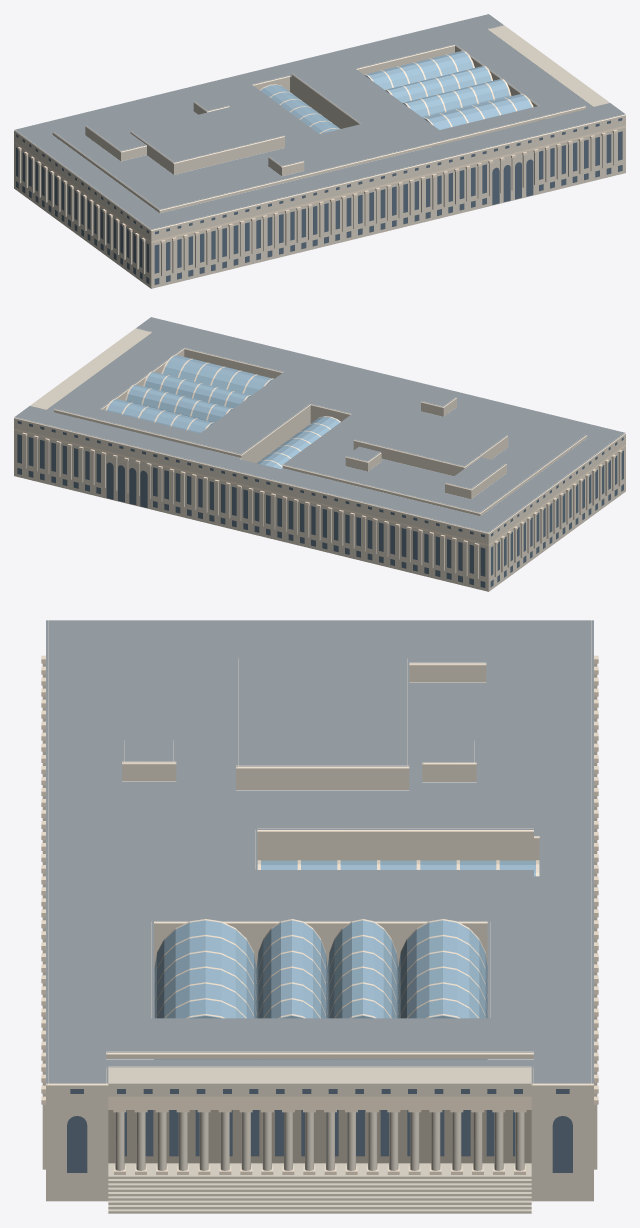
File: nyc-moynihan-train-hall.glb
3 renders of one model, top to bottom at view 1: azimuth 30°, elevation 25°; view 2: azimuth 150°, elevation 25°; view 3: azimuth 270°, elevation 25°, orthographic. The views are drawn at different scales.
Visible parts, largest first — view 1: Moynihan Train Hall; view 2: Moynihan Train Hall; view 3: Moynihan Train Hall.
Part boxes in pixels (box(x1,y1,x2,y2)): Moynihan Train Hall: box(14, 14, 625, 288); Moynihan Train Hall: box(14, 317, 625, 591); Moynihan Train Hall: box(41, 620, 598, 1213).
Size of the model in its own units: 235 by 34 by 116.
